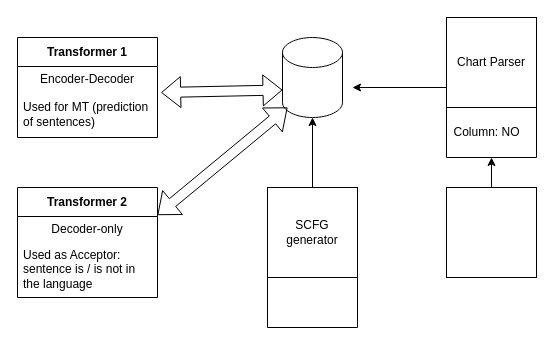
Some shapes in this 554 by 345 pixel diagram are drawn without their labels. The shapes that lost their labels are listed below. From the top down, each one's centre as x and y in pixels, then its label:
At pixel 312 77: "db".
At pixel 491 232: "SCFG fake_samples generator".
At pixel 312 257: "Column: YES".
